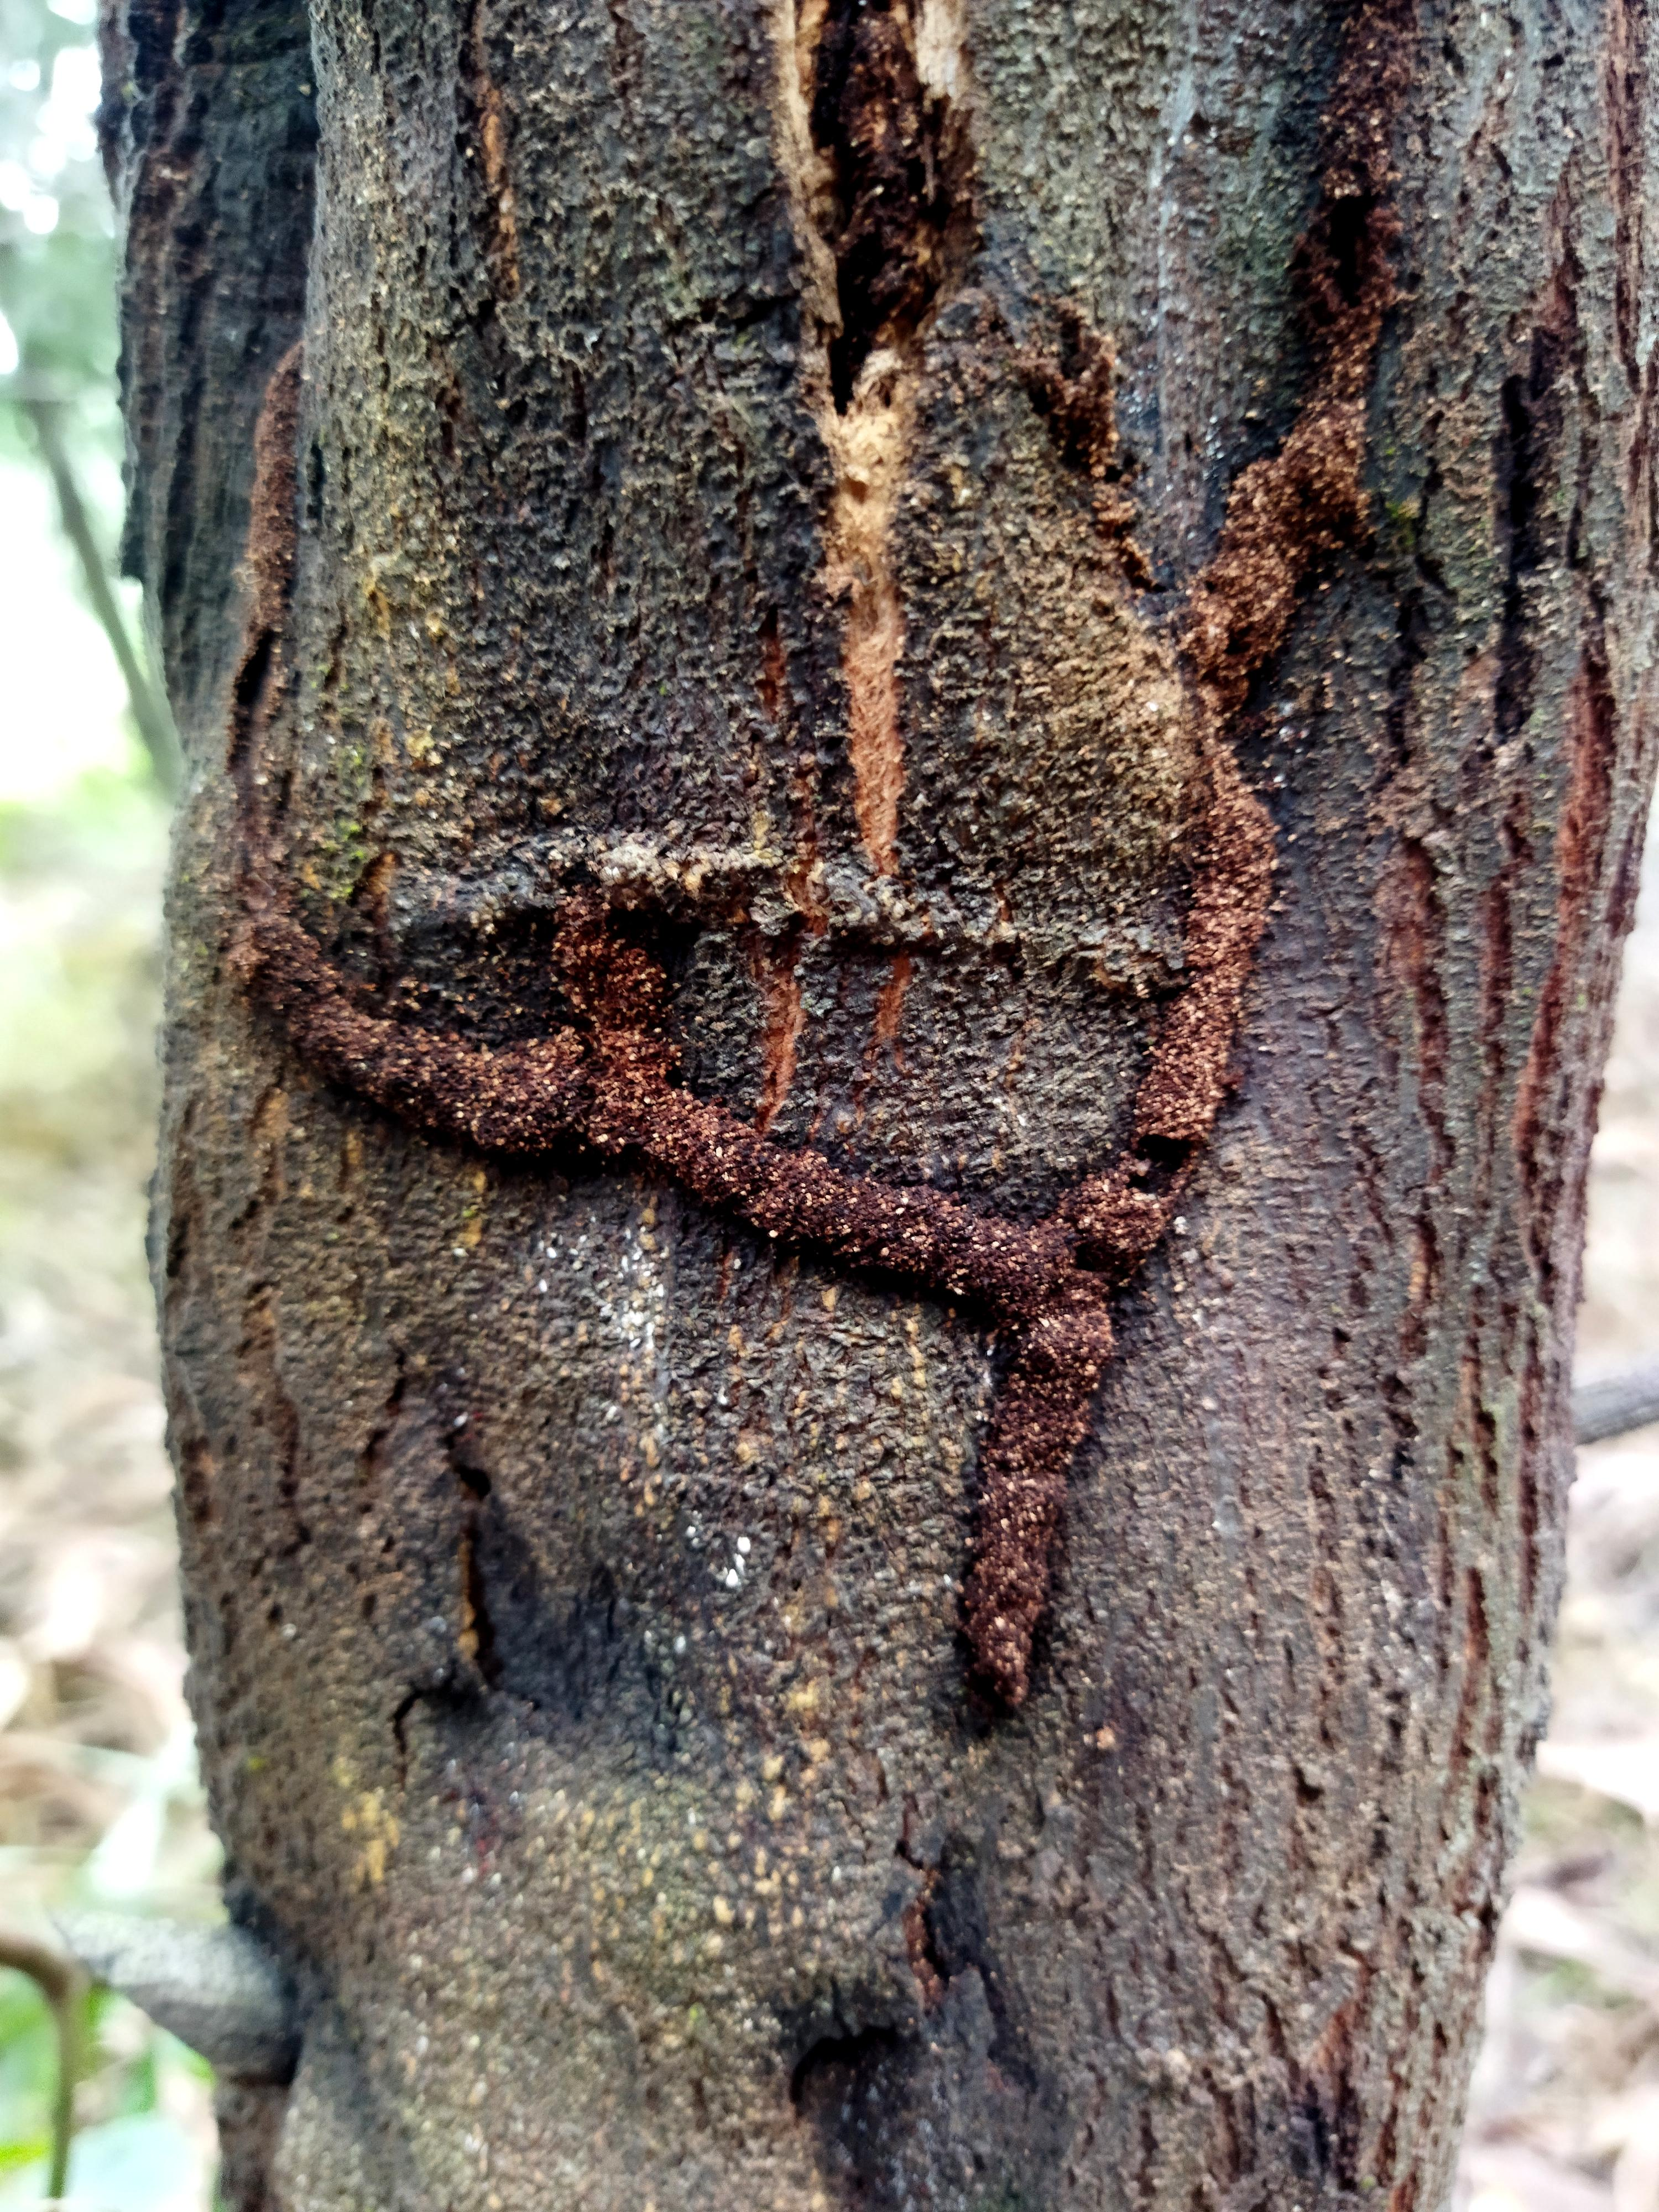Termite - Nest: (173, 327, 1465, 1719)
